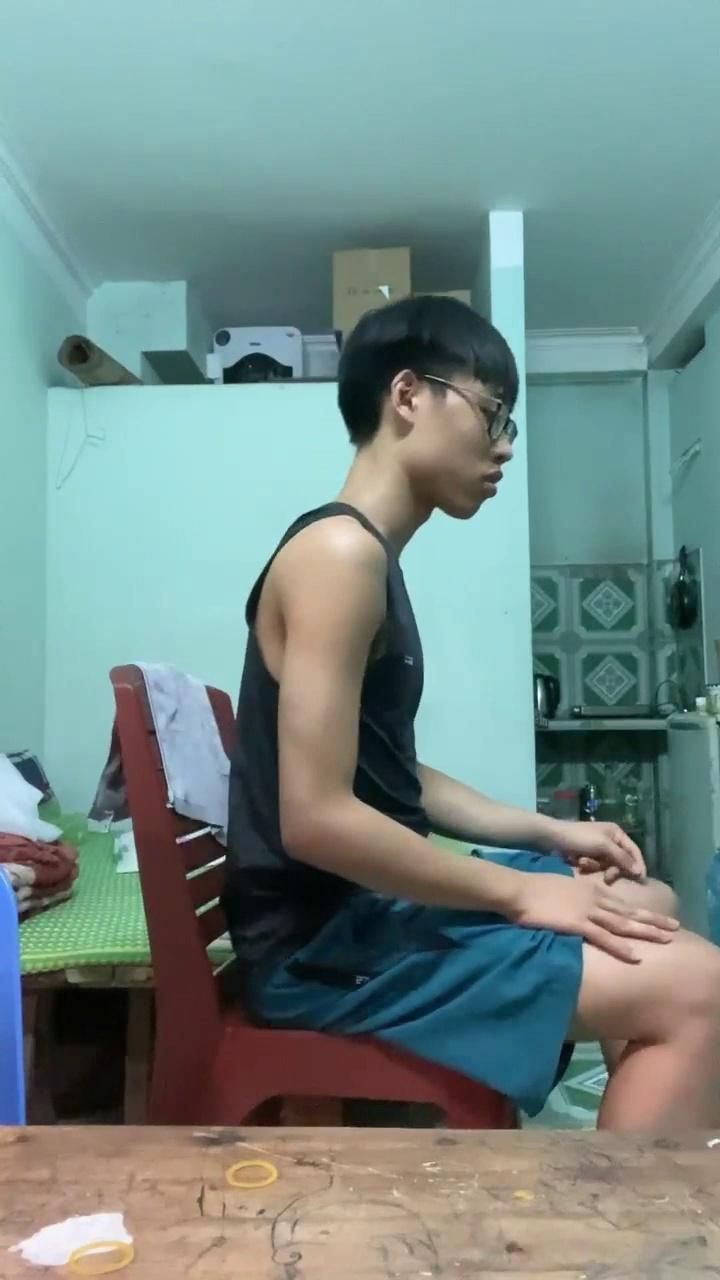GoodPosture: (224, 296, 719, 1132)
